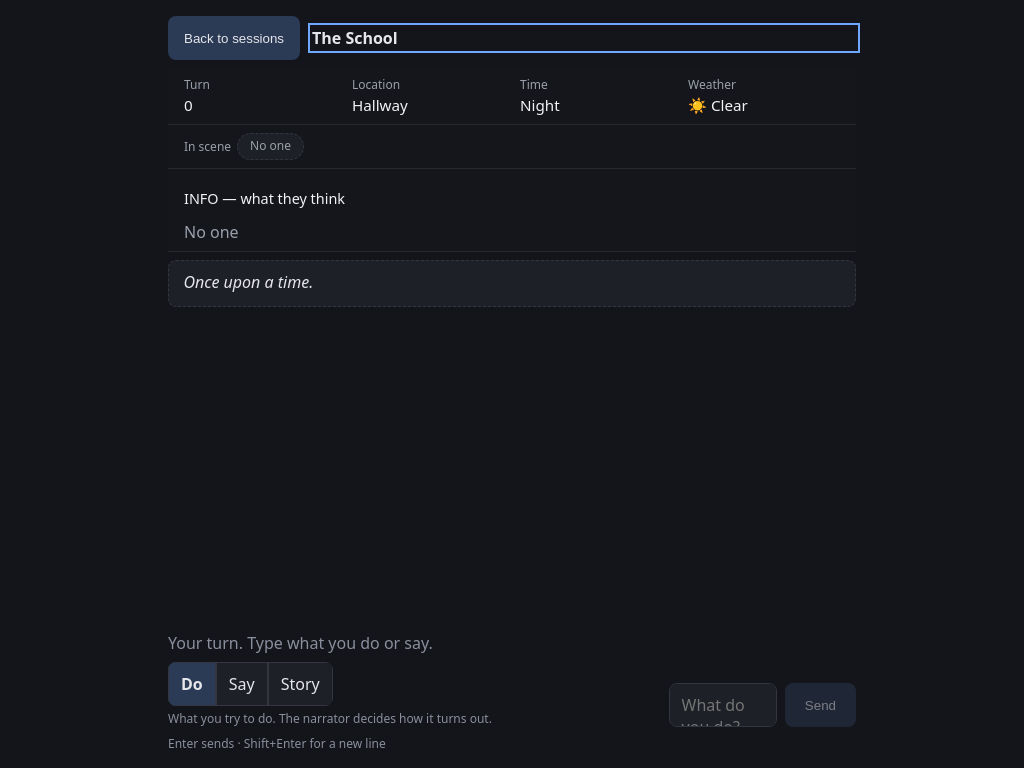
Test: GameScreen turns › filters inline tags out of streamed deltas
This screenshot has width=1024, height=768.
Check: the text "Once upon a time." is shown, box [183, 271, 313, 293]
Type "look" into the text box named "Your action" at (723, 705), box [668, 683, 777, 727]
Then press Enter
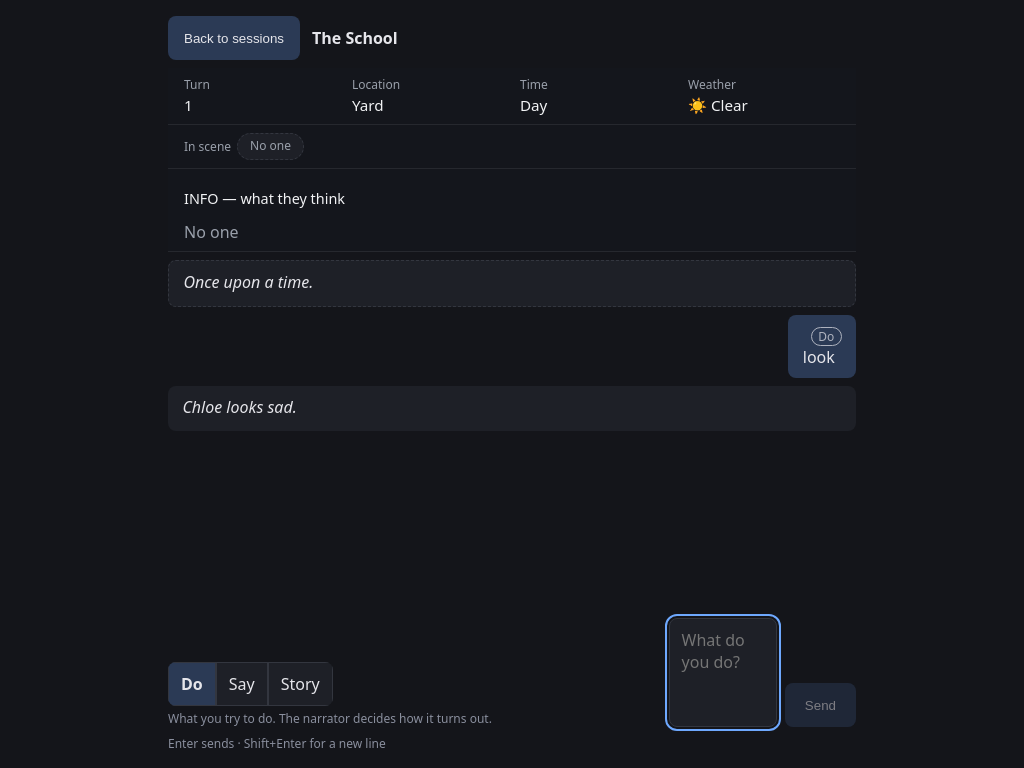
Check: the text "Chloe looks sad." is shown, box [182, 396, 297, 418]
